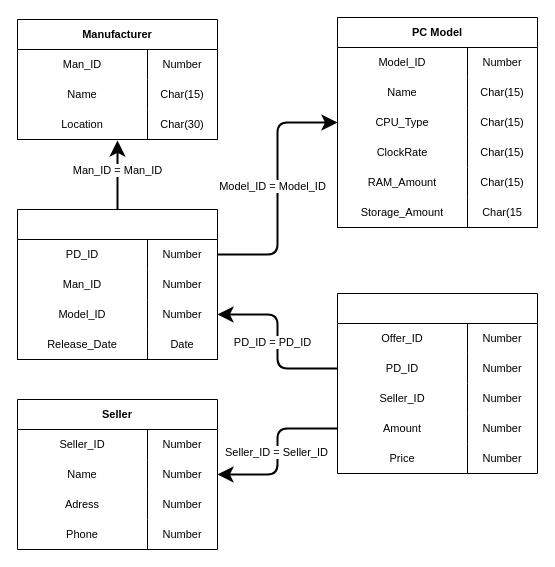
Some shapes in this 555 by 567 pixel diagram are drawn without their labels. Each missing label, with the box of its shape:
Market_Offer: (336, 292, 538, 474)
Product: (16, 208, 218, 360)
